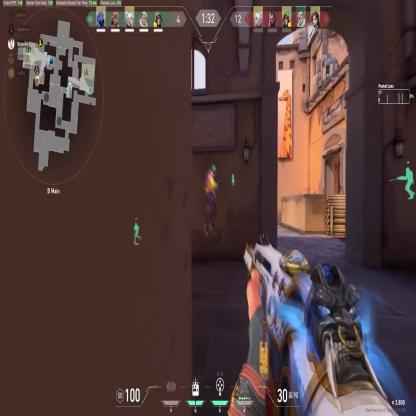enemy: (204, 162, 220, 235)
enemy_head: (211, 165, 217, 177)
